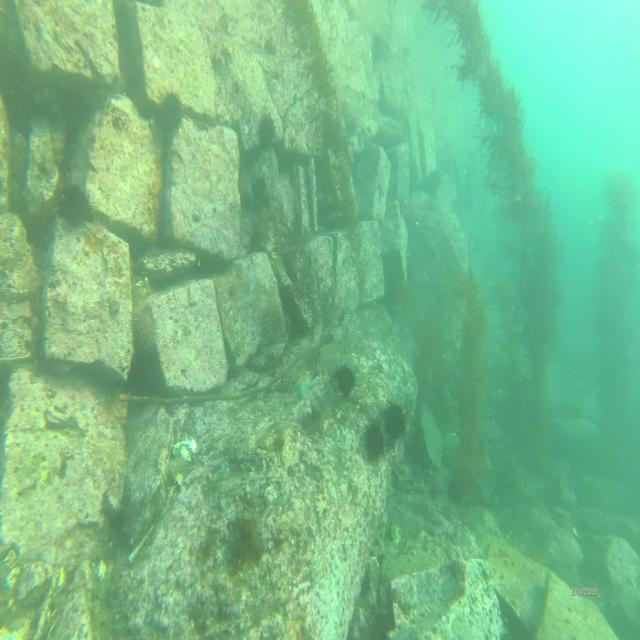echinus: (128, 296, 161, 356), (54, 182, 96, 226), (155, 84, 187, 137), (380, 394, 408, 444), (363, 414, 388, 465), (332, 354, 356, 400), (258, 110, 276, 149)
starfish: (234, 159, 256, 208), (290, 366, 314, 399)
